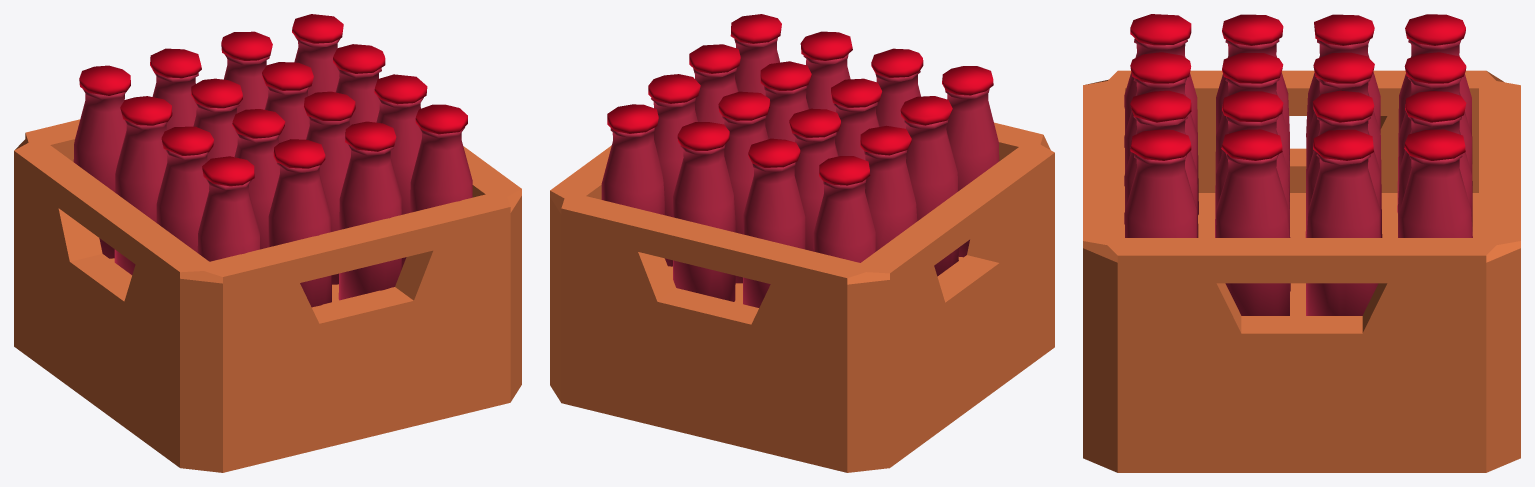
Rendered from Bopttle rack.fbx.
3 renders of one model, left to right at view 1: azimuth 30°, elevation 25°; view 2: azimuth 150°, elevation 25°; view 3: azimuth 270°, elevation 25°, orthographic. The views are drawn at different scales.
Visible parts, largest first — view 1: subrays logo copy; view 2: subrays logo copy; view 3: subrays logo copy.
Boxes of the visible parts, <box> form: subrays logo copy: <box>14,14,521,472</box>; subrays logo copy: <box>550,14,1054,472</box>; subrays logo copy: <box>1083,14,1520,472</box>.
Size of the model in its own units: 85.98 by 64.87 by 85.98.
